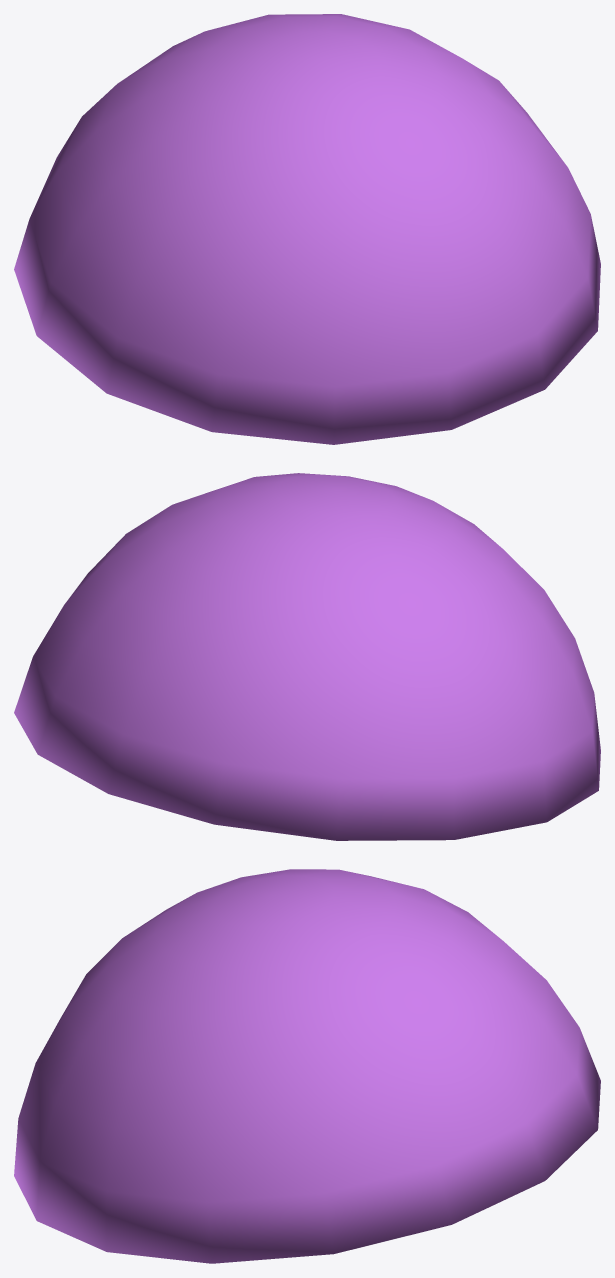
Rendered from Parpado sup der.fbx.
The picture shows the model from 3 angles, top to bottom: view 1: azimuth 30°, elevation 25°; view 2: azimuth 150°, elevation 25°; view 3: azimuth 270°, elevation 25°; orthographic projection.
Visible parts, largest first — view 1: Parpado sup der.001; view 2: Parpado sup der.001; view 3: Parpado sup der.001.
Part boxes in pixels (<box>): Parpado sup der.001: <box>14,14,600,444</box>; Parpado sup der.001: <box>14,473,600,840</box>; Parpado sup der.001: <box>14,869,600,1263</box>.
Size of the model in its own units: 7.83 by 4.1 by 7.74.
